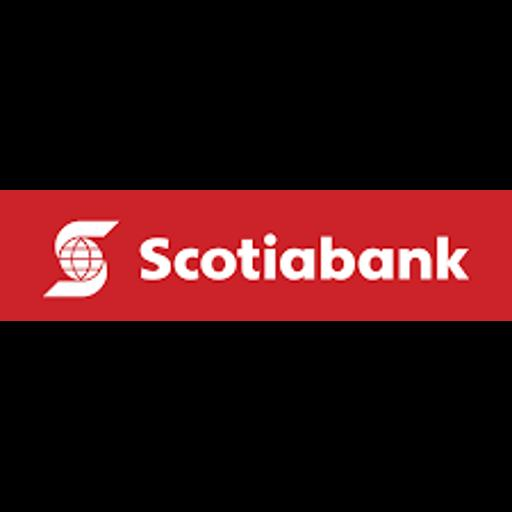Scotiabank: (0, 190, 512, 321)
